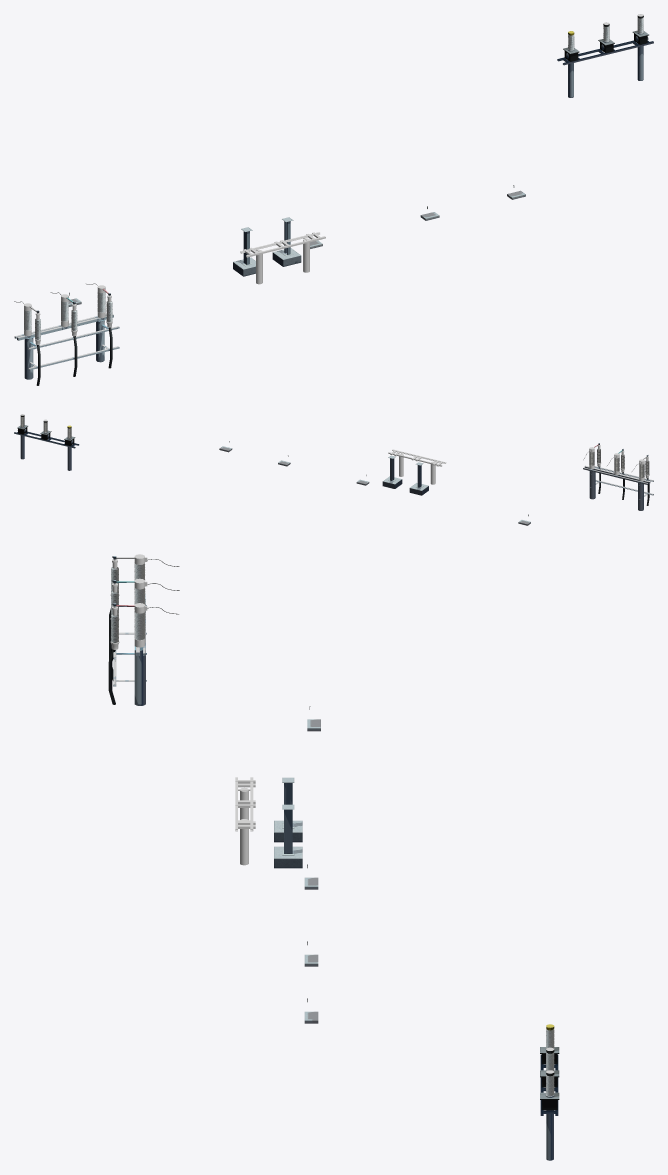
3 views of the same model, one above another, from view 1: azimuth 30°, elevation 25°; view 2: azimuth 150°, elevation 25°; view 3: azimuth 270°, elevation 25° (orthographic). The views are drawn at different scales.
Visible parts, largest first — view 1: 16-#.1, 16-#.4, 16-#.3, 16-材质.17; view 2: 16-#.1, 16-#.4, 16-材质.17 (×2), 16-#.3, 16-#; view 3: 16-#.1, 16-#.4, 16-#.3, 16-材质.17.
Boxes of the visible parts, x1,y1,x2,y2 form: 16-#.1: (14, 283, 119, 385); 16-#.4: (557, 14, 653, 97); 16-#.3: (233, 217, 301, 276); 16-材质.17: (240, 232, 325, 284); 16-#.1: (583, 443, 653, 510); 16-#.4: (14, 414, 79, 470); 16-材质.17 (×2): (388, 445, 649, 484); 16-#.3: (382, 455, 428, 495); 16-#: (219, 441, 530, 525); 16-#.1: (108, 556, 179, 705); 16-#.4: (540, 1024, 559, 1160); 16-#.3: (274, 777, 302, 868); 16-材质.17: (235, 777, 255, 865).
Size of the model in its own units: 40.02 by 3.63 by 14.72.
Materials: 5 (4 with a texture image).
